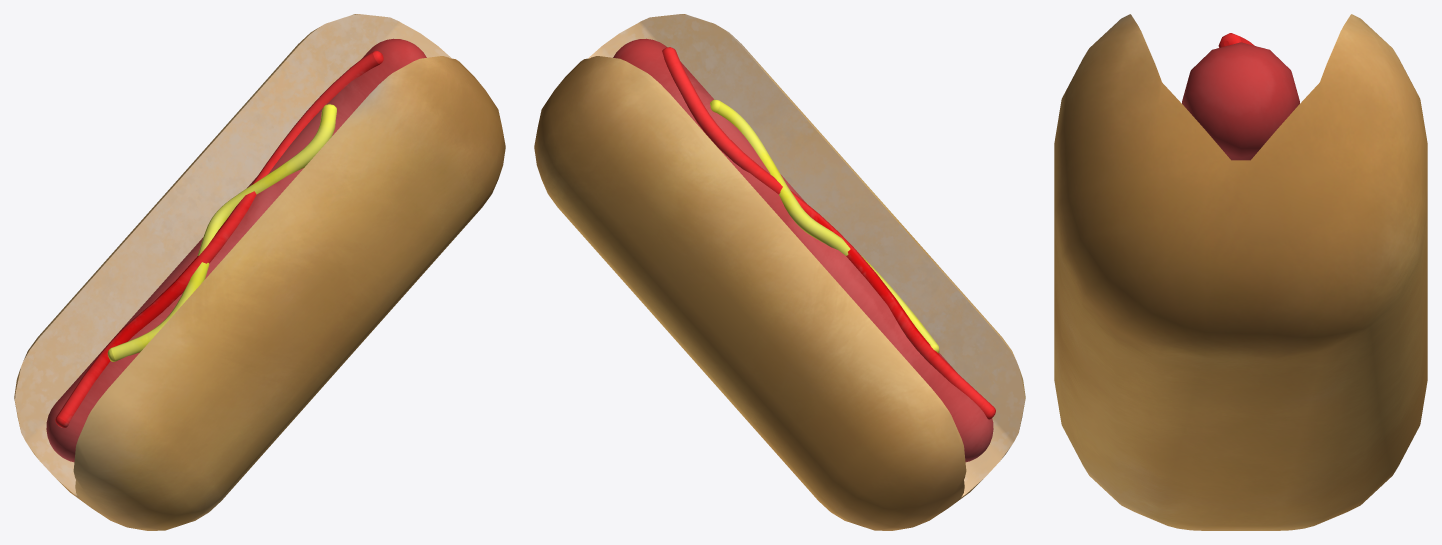
The model's file is hotdog.fbx.
3 views of the same model, side by side, from view 1: azimuth 30°, elevation 25°; view 2: azimuth 150°, elevation 25°; view 3: azimuth 270°, elevation 25° (orthographic). The views are drawn at different scales.
Parts seen in each view (by area): view 1: 7hotdog; view 2: 7hotdog; view 3: 7hotdog.
Part boxes in pixels (box(x1,y1,x2,y2)): 7hotdog: box(14, 14, 505, 530); 7hotdog: box(534, 14, 1025, 530); 7hotdog: box(1054, 14, 1427, 530).
Bounding box in the file's own units: 39.35 × 35.98 × 17.84.
5 materials, 5 textured.
